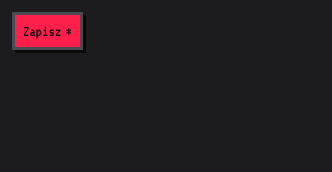
Test: SaveButton › marks unsaved changes and clears the mark after saving
Later steps or results of the test are not shown.
Click the button "Zapisz *" at [47, 31], box x1=12 y1=12 x2=83 y2=50
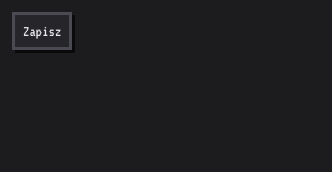
Expected: the button "Zapisz" no longer shows "*", x1=12 y1=12 x2=72 y2=50
